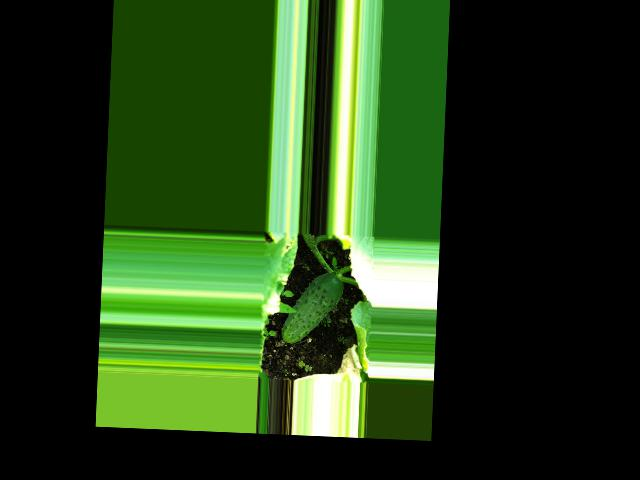cucumber: (280, 270, 344, 345)
